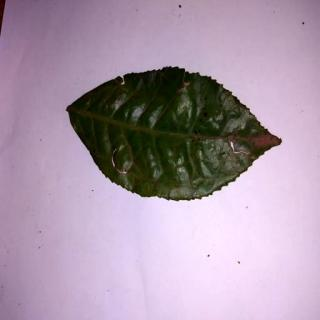Bird Eye Spot: (67, 66, 284, 202)
